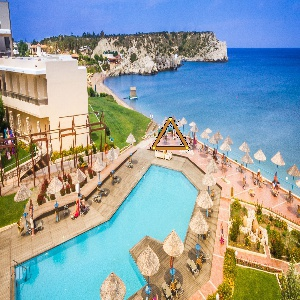triangle: (147, 114, 192, 153)
